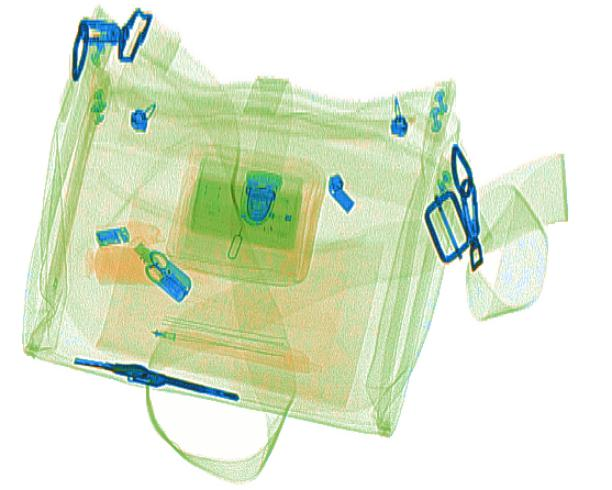USBFlashDisk: (130, 239, 192, 305), (92, 224, 132, 249)
